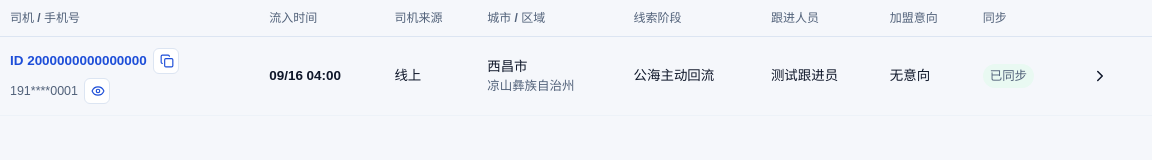
Test: reveals the full phone number from the list
The image size is (1152, 160).
Click the button named "获取完整手机号 191****0001".
click(97, 91)  # box [84,78,110,104]
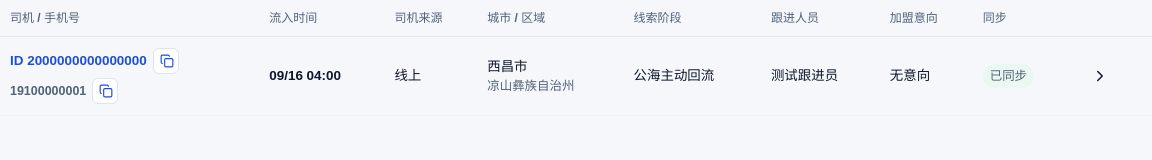
Check: the text "19100000001" is shown, box [10,82,86,100]
